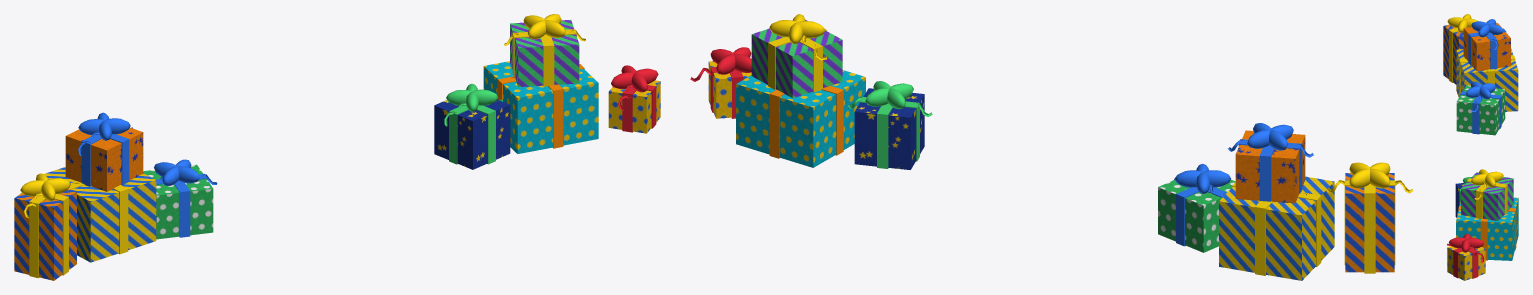
File: tclaws-presents-v1.glb
The picture shows the model from 3 angles, left to right: view 1: azimuth 30°, elevation 25°; view 2: azimuth 150°, elevation 25°; view 3: azimuth 270°, elevation 25°; orthographic projection. The views are drawn at different scales.
Parts seen in each view (by area): view 1: model; view 2: model; view 3: model.
Part boxes in pixels (x1,y1,x2,y2): model: (14,14,660,280); model: (690,14,1413,280); model: (1443,14,1518,280).
Bounding box in the file's own units: 5.58 × 0.975 × 0.825.
Materials: 16 (8 with a texture image).
